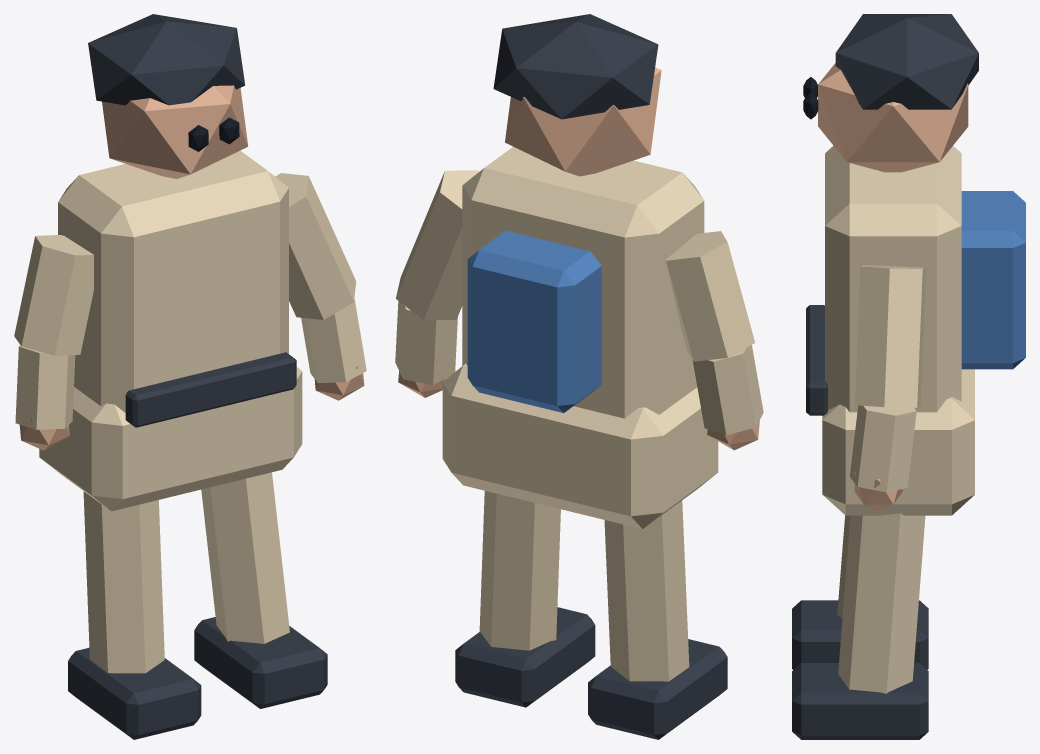
File: npcs_016_seed78877.glb
3 views of the same model, side by side, from view 1: azimuth 30°, elevation 25°; view 2: azimuth 150°, elevation 25°; view 3: azimuth 270°, elevation 25° (orthographic). The views are drawn at different scales.
Parts seen in each view (by area): view 1: npcs_016_seed78877; view 2: npcs_016_seed78877; view 3: npcs_016_seed78877.
Boxes of the visible parts, left/top/right/bottom form: npcs_016_seed78877: left=14, top=14, right=366, bottom=739; npcs_016_seed78877: left=395, top=14, right=763, bottom=739; npcs_016_seed78877: left=792, top=14, right=1025, bottom=739.
Bounding box in the file's own units: 1.11 × 2.03 × 0.64.
